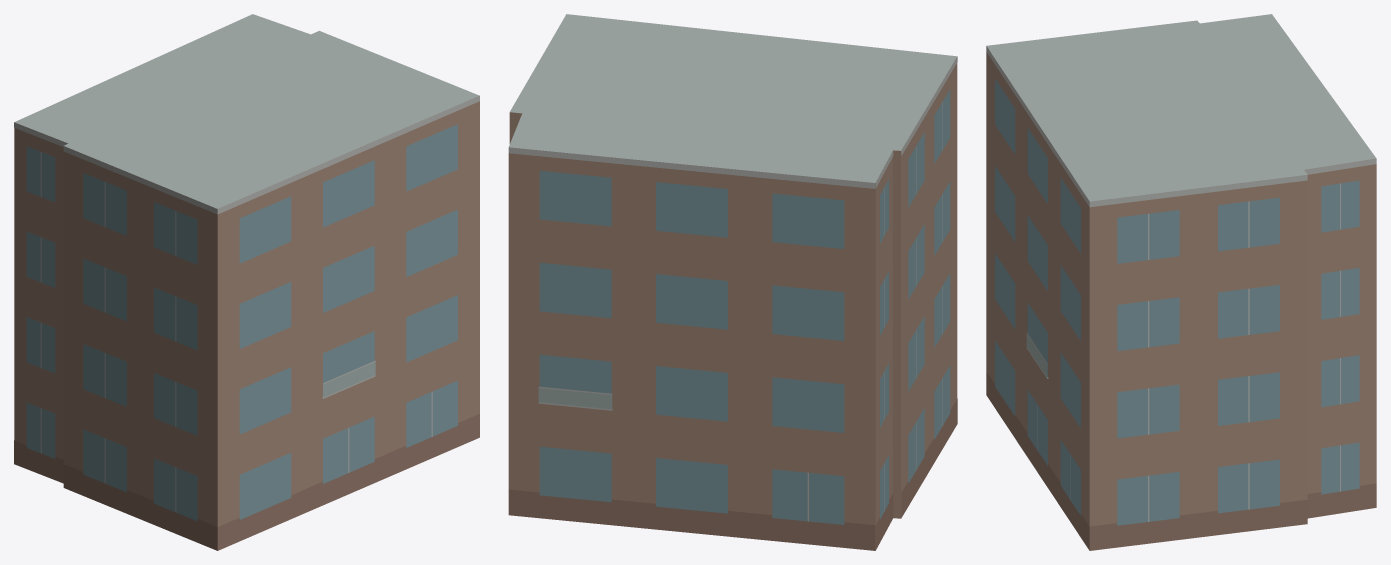
File: survey-upis-32612940.glb
3 renders of one model, left to right at view 1: azimuth 30°, elevation 25°; view 2: azimuth 150°, elevation 25°; view 3: azimuth 270°, elevation 25°, orthographic. The views are drawn at different scales.
Visible parts, largest first — view 1: survey-upis-32612940.tmp; view 2: survey-upis-32612940.tmp; view 3: survey-upis-32612940.tmp.
Boxes of the visible parts, x1=… form: survey-upis-32612940.tmp: x1=14, y1=14, x2=479, y2=550; survey-upis-32612940.tmp: x1=508, y1=14, x2=957, y2=550; survey-upis-32612940.tmp: x1=986, y1=14, x2=1376, y2=550.
Size of the model in its own units: 17.53 by 15.2 by 15.4.
